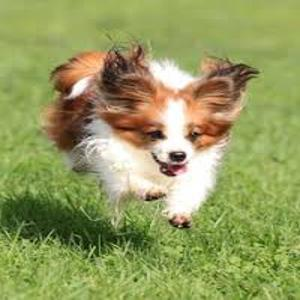yell: (41, 33, 260, 229)
